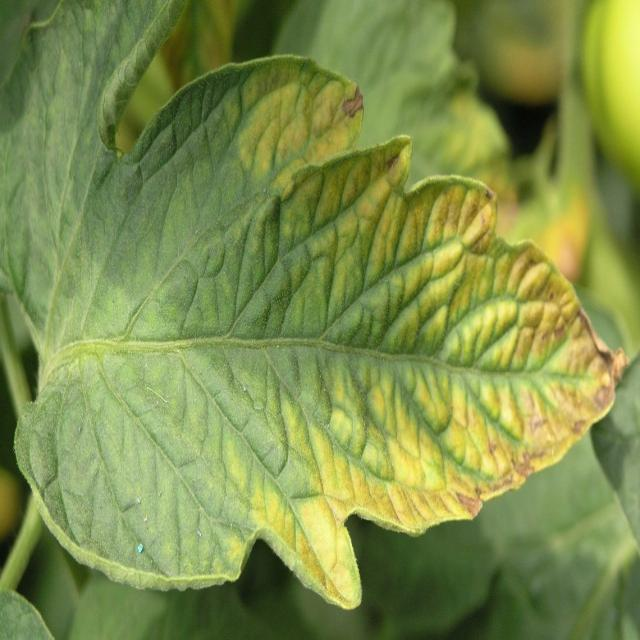Chlorosis: (11, 30, 618, 603)
